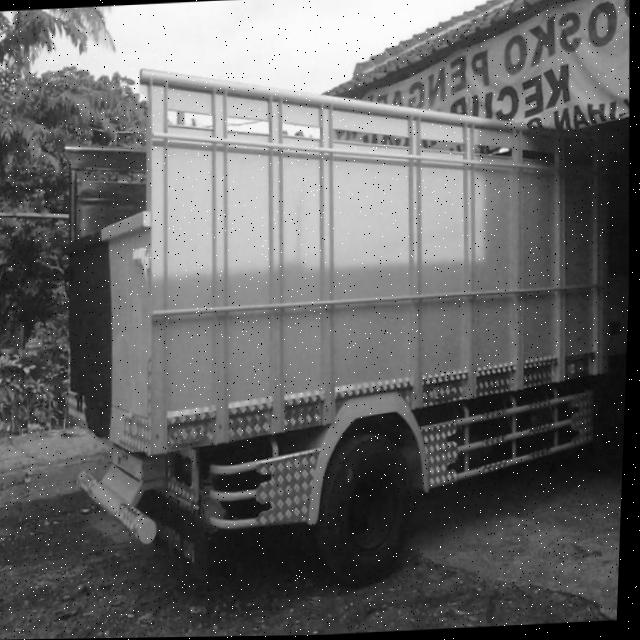truck: (52, 47, 639, 597)
